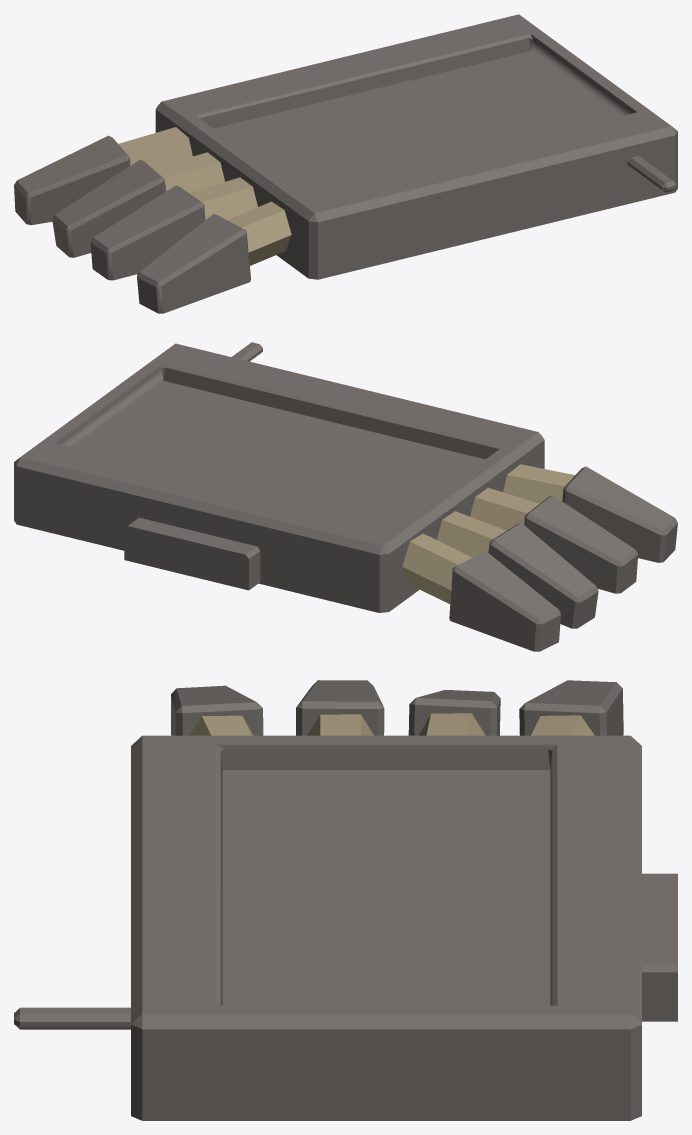
Rendered from Watch.fbx.
3 views of the same model, one above another, from view 1: azimuth 30°, elevation 25°; view 2: azimuth 150°, elevation 25°; view 3: azimuth 270°, elevation 25° (orthographic). The views are drawn at different scales.
Parts seen in each view (by area): view 1: watch, pCube1, pCube2, pCube4, pCube3, pipes, pipes5, pipes4, pipes3; view 2: watch, pCube4, pCube2, pCube1, pCube3, pipes5, pipes4, pipes, pipes3; view 3: watch, pCube4, pCube2, pCube1, pCube3, pipes4, pipes3, pipes5, pipes.
Boxes of the visible parts, left/top/right/bottom form: watch: left=155, top=14, right=677, bottom=279; pCube1: left=137, top=214, right=250, bottom=313; pCube2: left=90, top=185, right=205, bottom=280; pCube4: left=14, top=135, right=130, bottom=225; pCube3: left=52, top=160, right=166, bottom=257; pipes: left=227, top=201, right=291, bottom=265; pipes5: left=118, top=127, right=192, bottom=168; pipes4: left=153, top=152, right=224, bottom=192; pipes3: left=189, top=177, right=257, bottom=219; watch: left=14, top=342, right=544, bottom=612; pCube4: left=449, top=551, right=560, bottom=651; pCube2: left=524, top=495, right=638, bottom=593; pCube1: left=562, top=466, right=677, bottom=562; pCube3: left=488, top=523, right=598, bottom=628; pipes5: left=402, top=533, right=472, bottom=603; pipes4: left=436, top=511, right=506, bottom=557; pipes: left=503, top=464, right=574, bottom=503; pipes3: left=470, top=487, right=539, bottom=530; watch: left=14, top=735, right=677, bottom=1120; pCube4: left=519, top=680, right=623, bottom=735; pCube2: left=296, top=680, right=384, bottom=735; pCube1: left=171, top=685, right=263, bottom=735; pCube3: left=408, top=690, right=500, bottom=735; pipes4: left=419, top=713, right=485, bottom=735; pipes3: left=307, top=714, right=373, bottom=735; pipes5: left=530, top=715, right=594, bottom=735; pipes: left=189, top=715, right=253, bottom=735.
Bounding box in the file's own units: 5.62 × 0.7952 × 3.9.
